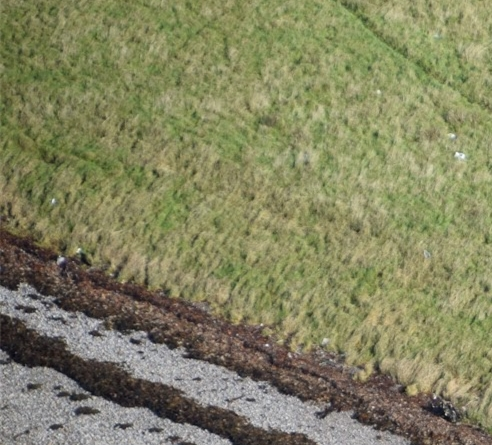scattered_barrel: (43, 190, 89, 271)
white_in_green: (400, 371, 483, 438), (436, 134, 484, 176)
